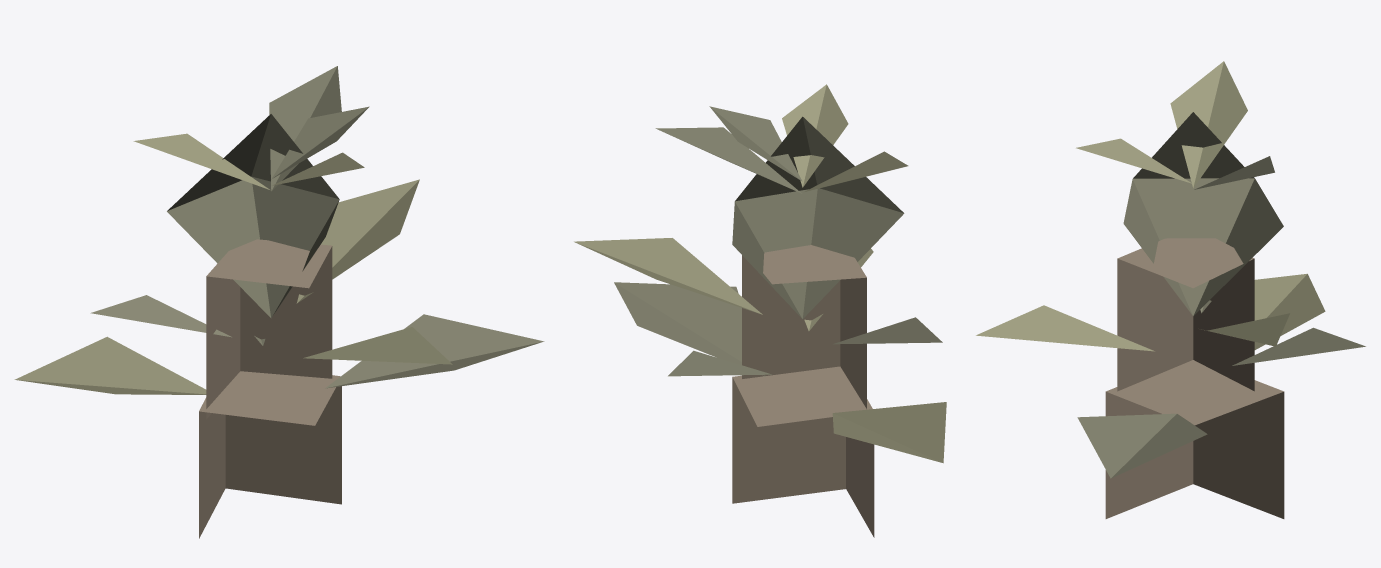
Rendered from guan.aili@seedling__winter.glb.
3 views of the same model, side by side, from view 1: azimuth 30°, elevation 25°; view 2: azimuth 150°, elevation 25°; view 3: azimuth 270°, elevation 25° (orthographic).
Visible parts, largest first — view 1: guan.aili@seedling__winter; view 2: guan.aili@seedling__winter; view 3: guan.aili@seedling__winter.
Part boxes in pixels (x1,y1,x2,y2): guan.aili@seedling__winter: [14, 66, 544, 538]; guan.aili@seedling__winter: [574, 84, 946, 537]; guan.aili@seedling__winter: [976, 61, 1365, 518].
Bounding box in the file's own units: 0.0874 × 0.0971 × 0.0688.
